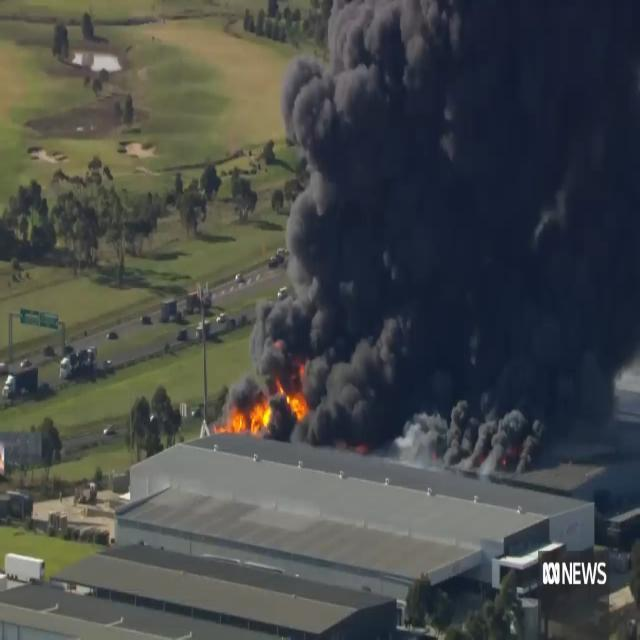fire: (230, 402, 278, 440), (278, 380, 311, 422)
